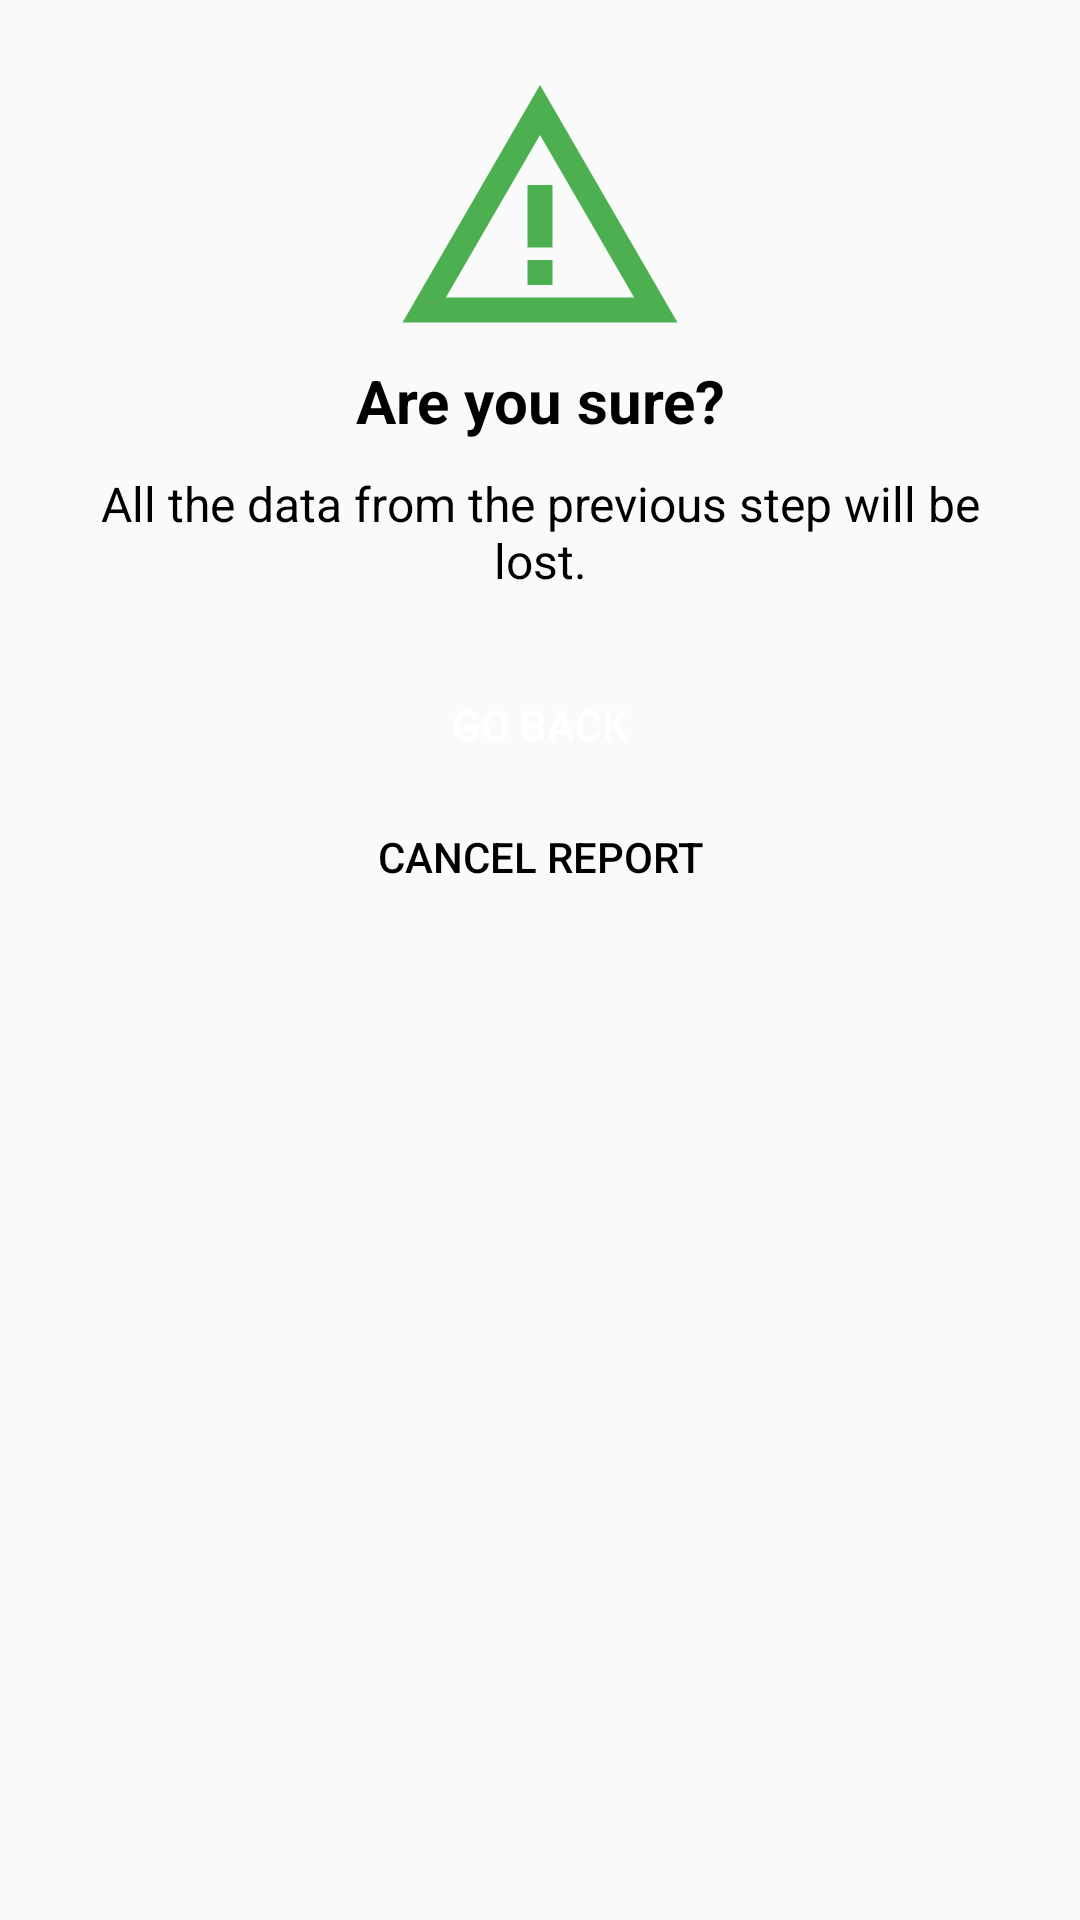

Icons on this 1080×1920 Android screen, each with the point to tap as (x=x, y=y):
warning: (x=540, y=204)
